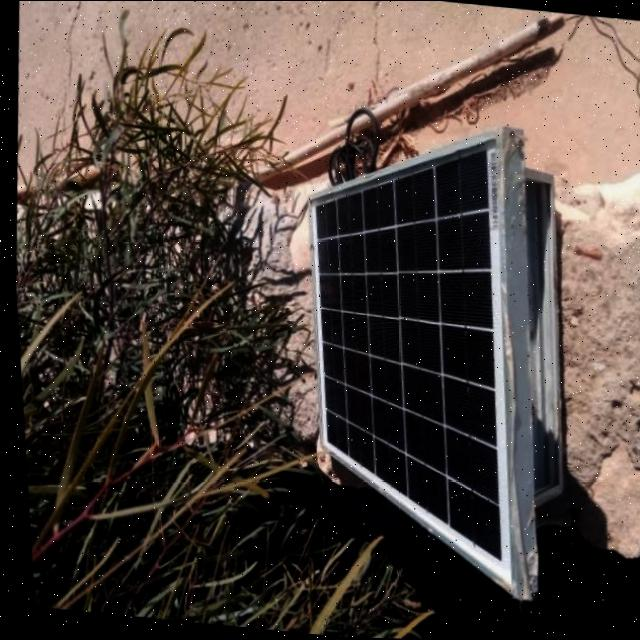Normal Solar Panel: (277, 112, 539, 594)
